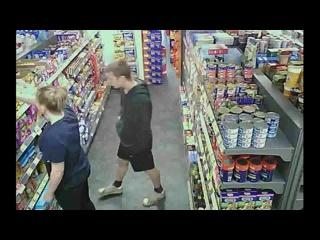Normal: (96, 59, 166, 207), (34, 84, 96, 210)
